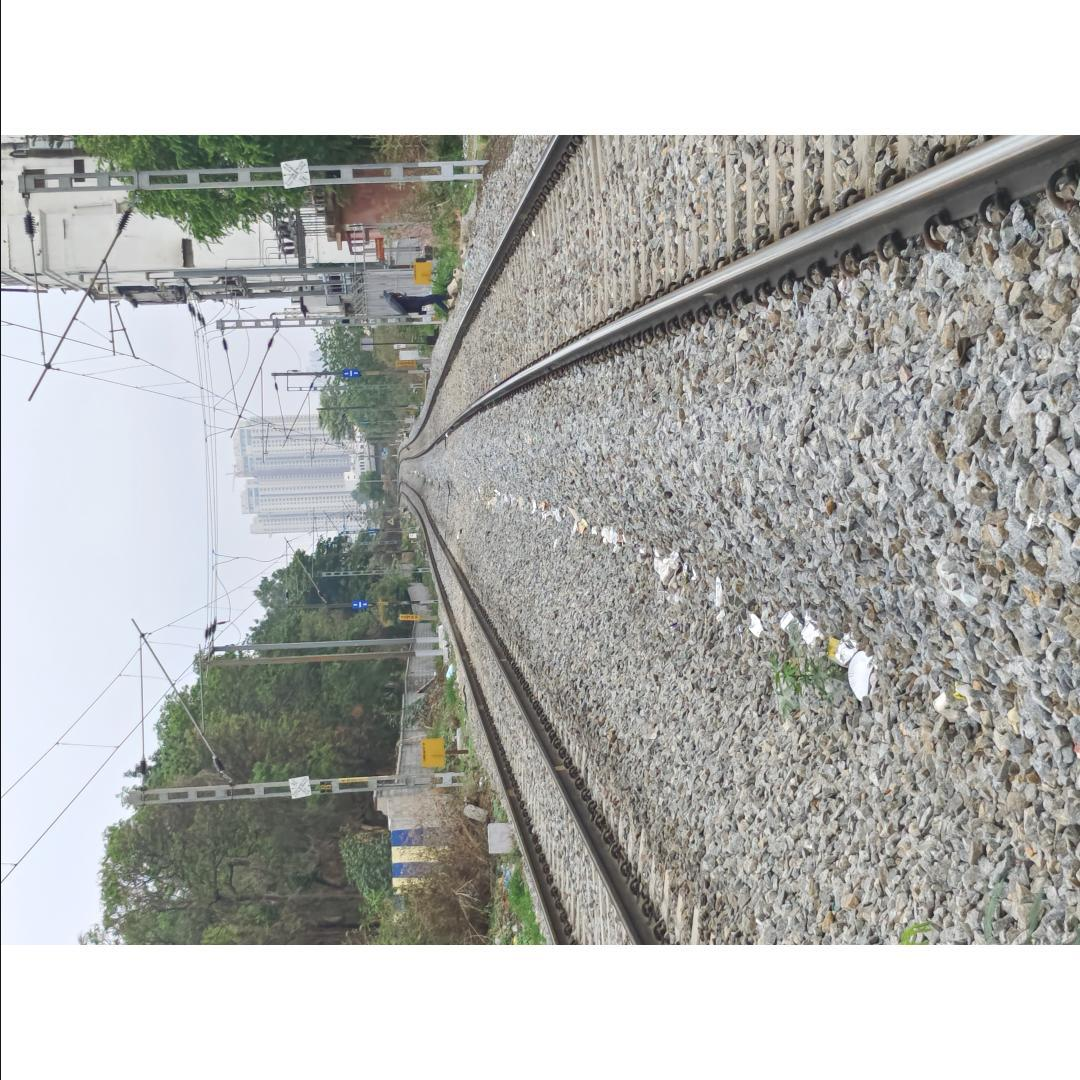standing: (378, 288, 454, 318)
track: (393, 135, 1079, 480), (408, 484, 758, 945)
